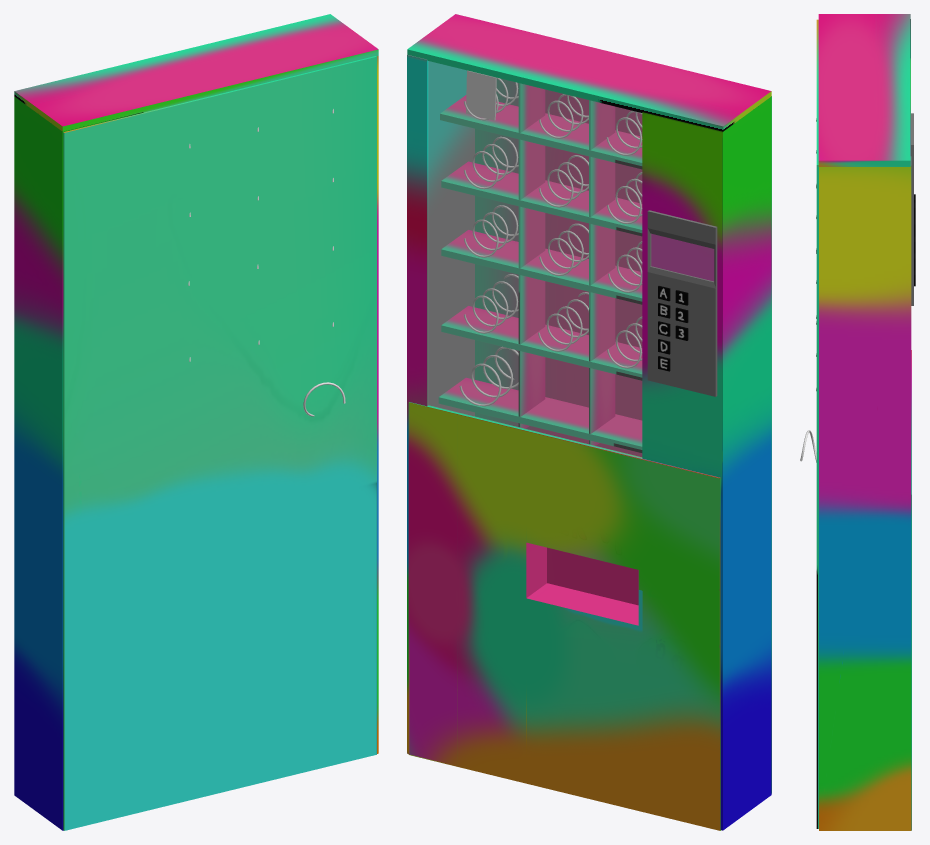
File: vending-machine-color.gltf
3 renders of one model, left to right at view 1: azimuth 30°, elevation 25°; view 2: azimuth 150°, elevation 25°; view 3: azimuth 270°, elevation 25°, orthographic. The views are drawn at different scales.
Visible parts, largest first — view 1: back-panel, machine-left, top-panel, machine-right; view 2: front-panel, screen, machine-left, machine-right, back-panel, top-panel, display, separator1, separator2, floor1, floor2, floor3 (+11 smaller); view 3: machine-right, top-panel, back-panel, display, front-panel.
Part boxes in pixels (bbox=[...]): back-panel: bbox=[63, 56, 376, 830]; machine-left: bbox=[14, 96, 143, 830]; top-panel: bbox=[14, 14, 378, 131]; machine-right: bbox=[377, 56, 378, 753]; front-panel: bbox=[408, 402, 720, 830]; screen: bbox=[428, 61, 641, 457]; machine-left: bbox=[642, 96, 771, 830]; machine-right: bbox=[407, 54, 474, 753]; back-panel: bbox=[475, 79, 771, 793]; top-panel: bbox=[407, 14, 771, 131]; display: bbox=[647, 210, 717, 396]; separator1: bbox=[518, 83, 545, 428]; separator2: bbox=[589, 100, 615, 445]; floor1: bbox=[438, 378, 642, 452]; floor2: bbox=[441, 306, 642, 380]; floor3: bbox=[441, 230, 642, 304]; machine-right: bbox=[819, 156, 911, 830]; top-panel: bbox=[818, 14, 910, 166]; back-panel: bbox=[816, 19, 818, 828]; display: bbox=[911, 113, 913, 305]; front-panel: bbox=[911, 350, 911, 830].
Bounding box in the file's own units: 0.6514 × 1.39 × 0.2169.
13 materials, 11 textured.
